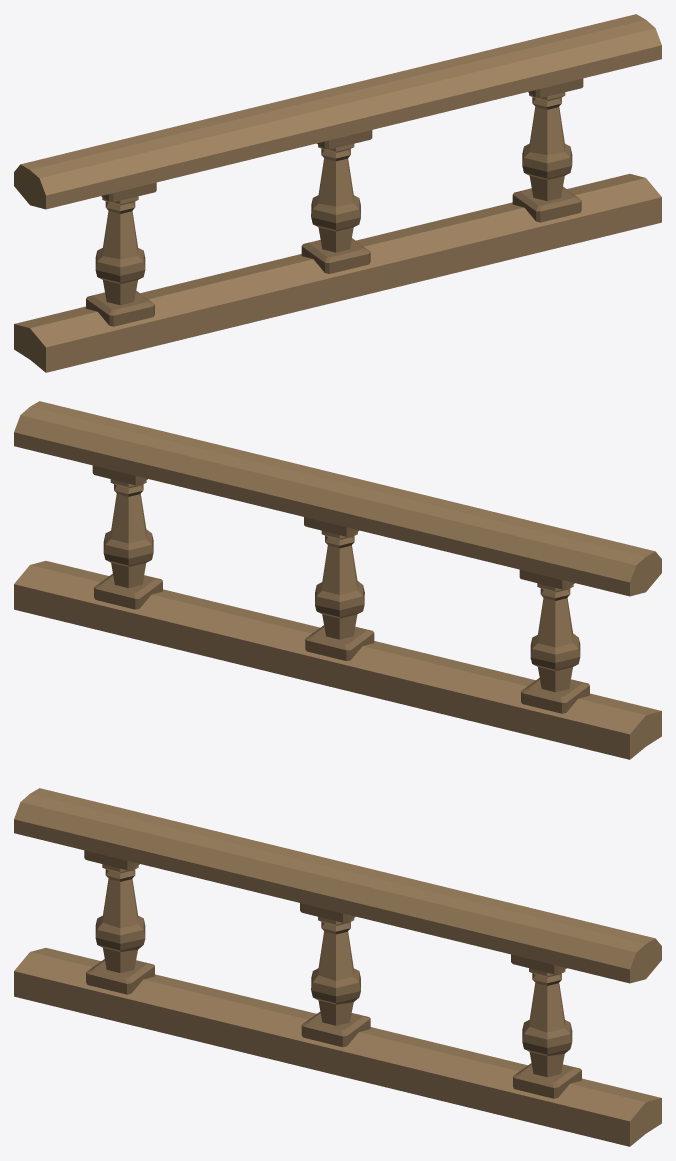
The model's file is SM_Bld_Railing_Manor_01.fbx.
The picture shows the model from 3 angles, top to bottom: view 1: azimuth 30°, elevation 25°; view 2: azimuth 150°, elevation 25°; view 3: azimuth 330°, elevation 25°; orthographic projection.
Visible parts, largest first — view 1: SM_Bld_Railing_Manor_01; view 2: SM_Bld_Railing_Manor_01; view 3: SM_Bld_Railing_Manor_01.
Boxes of the visible parts, box(x1,y1,x2,y2) form: SM_Bld_Railing_Manor_01: box(14, 14, 661, 372); SM_Bld_Railing_Manor_01: box(14, 401, 661, 759); SM_Bld_Railing_Manor_01: box(14, 788, 661, 1146).
Size of the model in its own units: 250 by 74.14 by 22.5.
